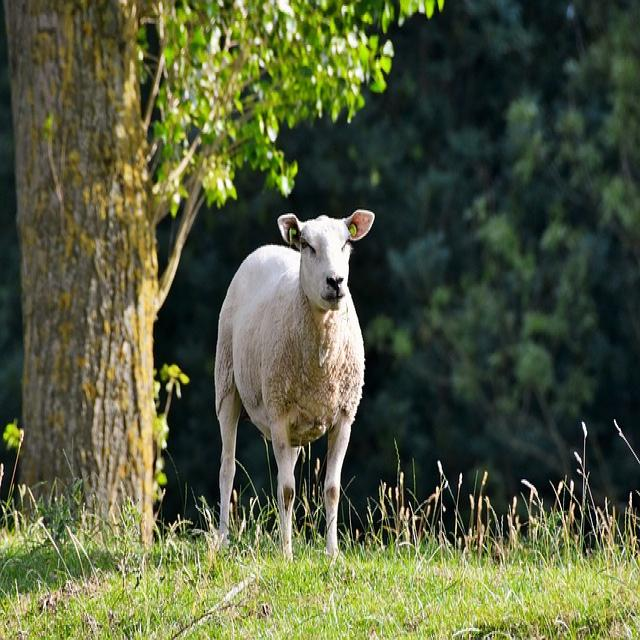goat: (210, 210, 376, 560)
